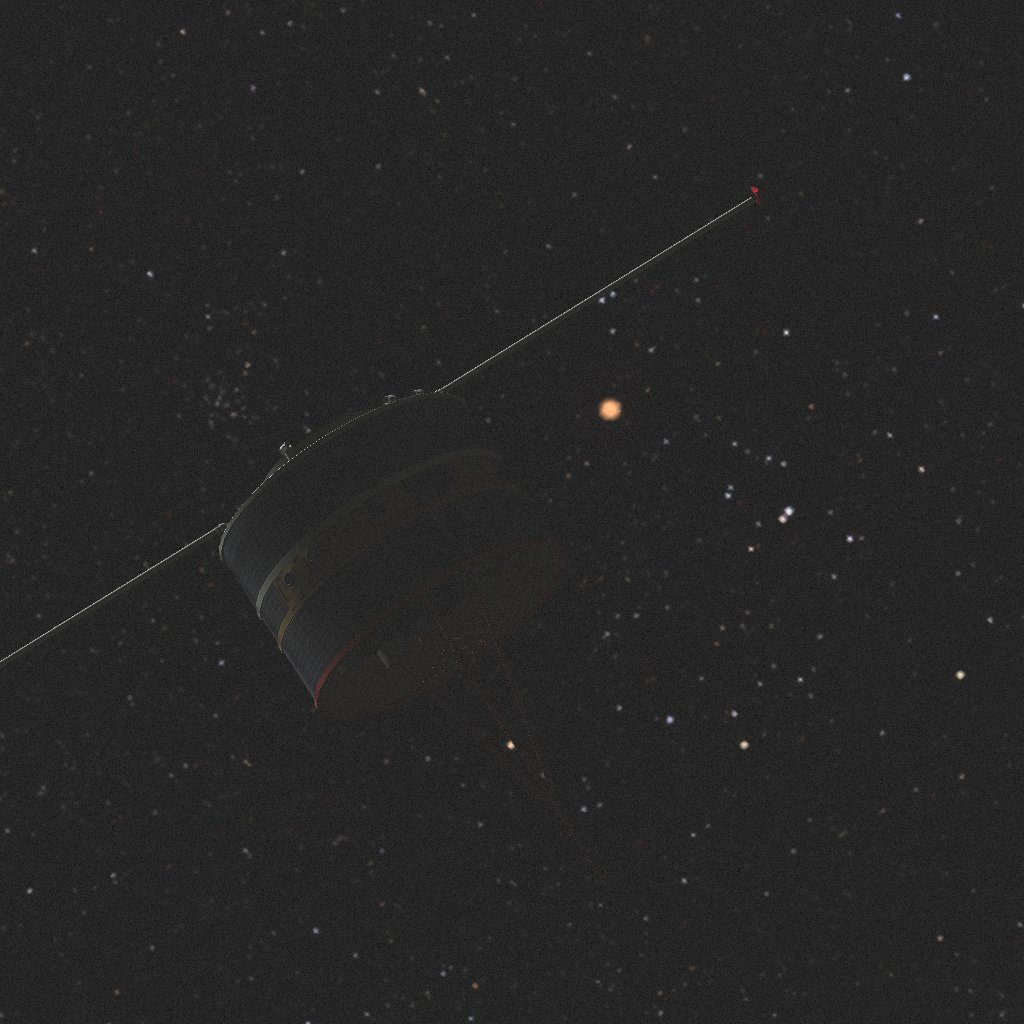double_star: (0, 187, 766, 885)
